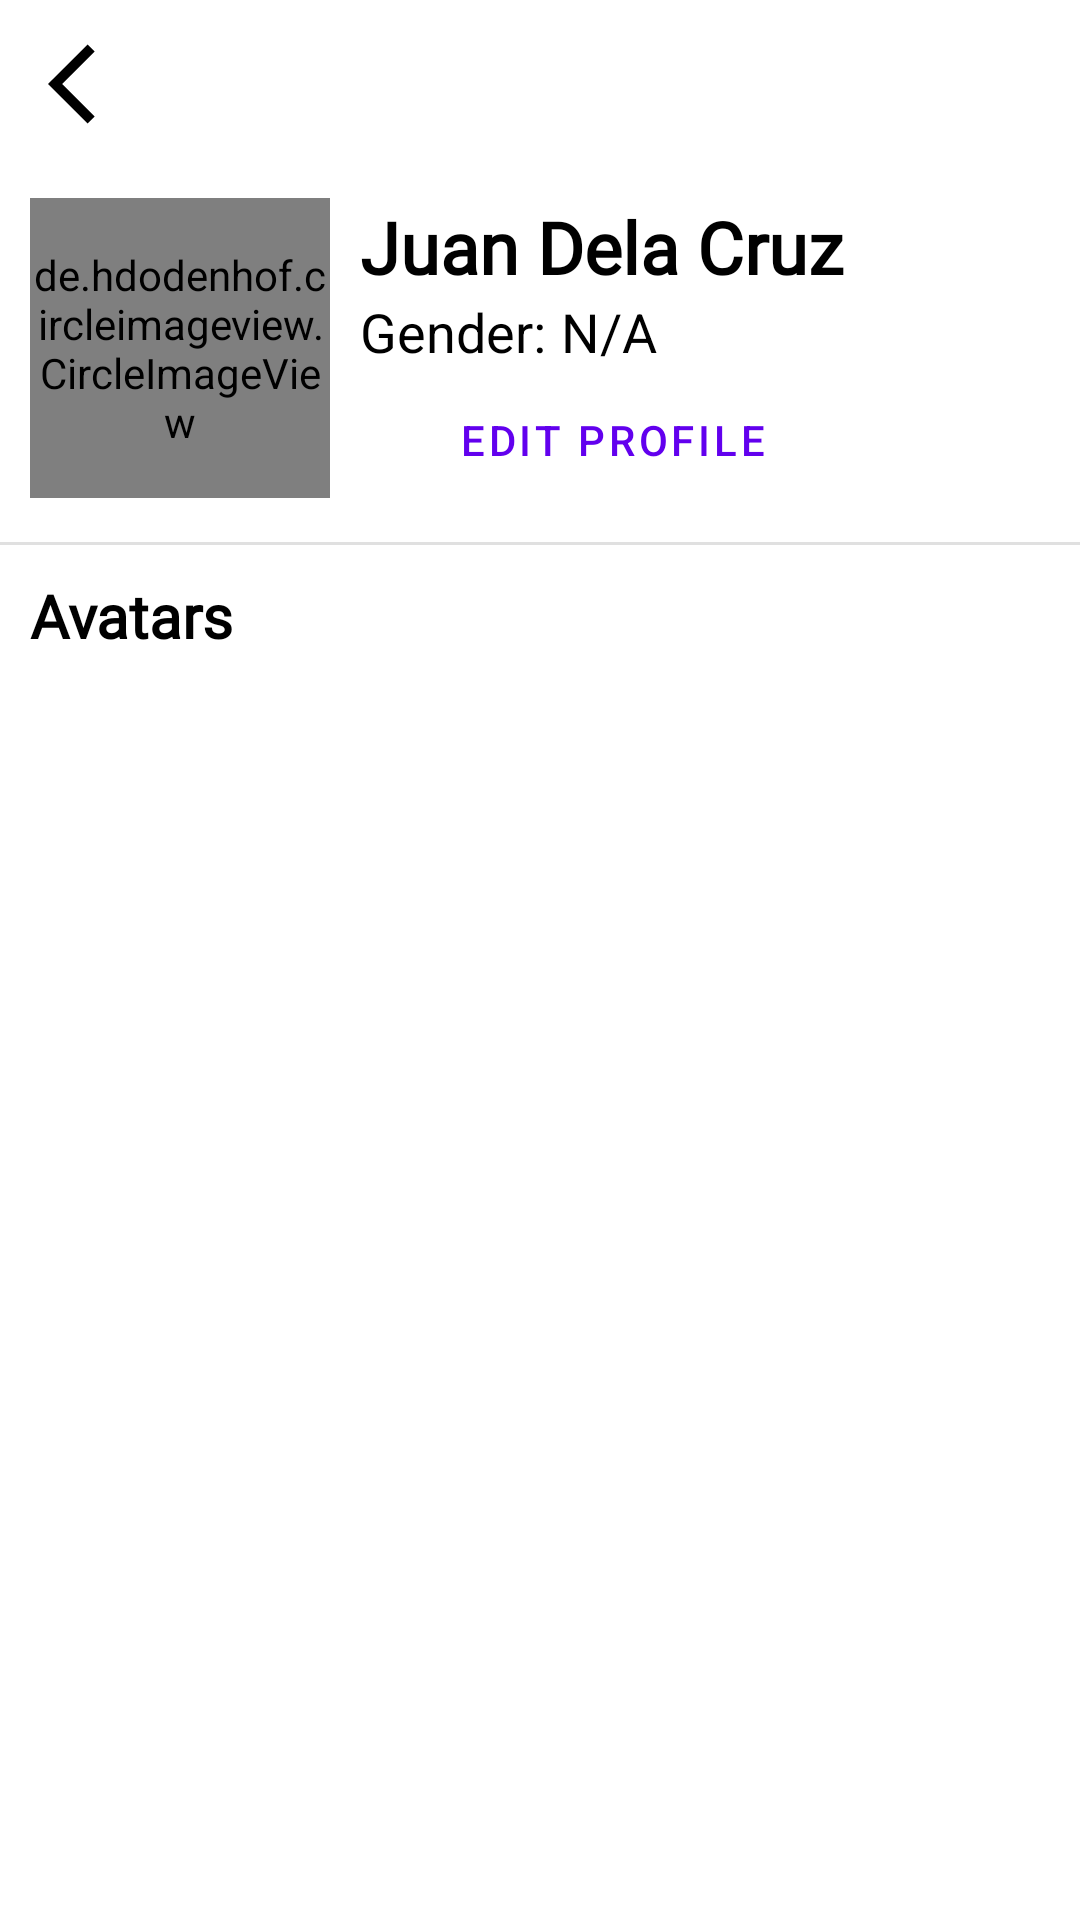

Named icons in this screenshot (1080w x 1920h) and their centers, point (x, y):
back: point (71, 84)
